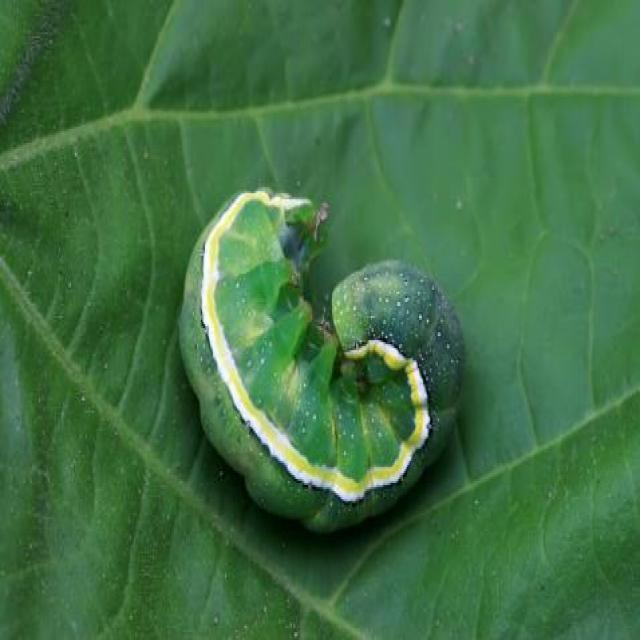BeetArmyWorm-Larva-: (172, 179, 468, 539)
